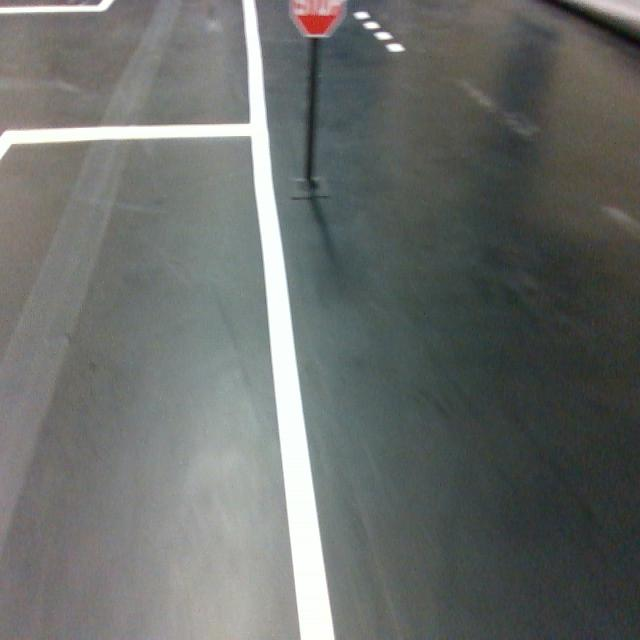stop-sign: (287, 0, 347, 37)
